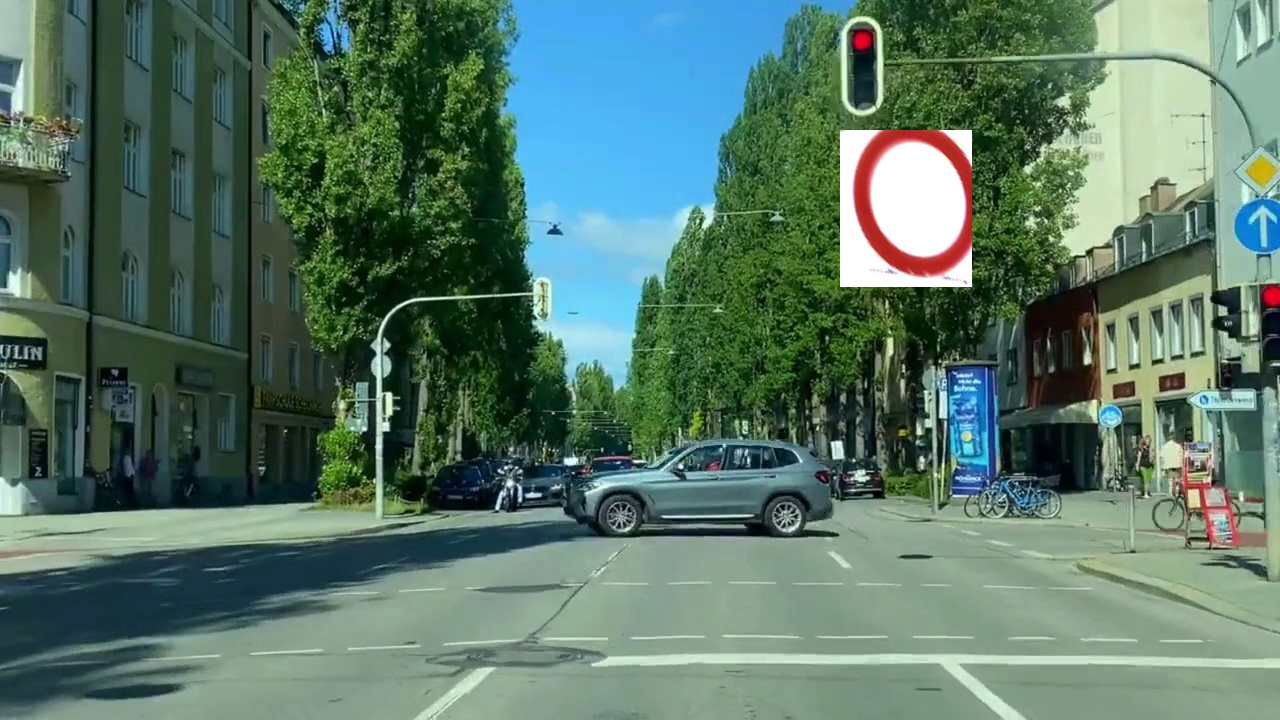No vehicles: (840, 130, 972, 287)
